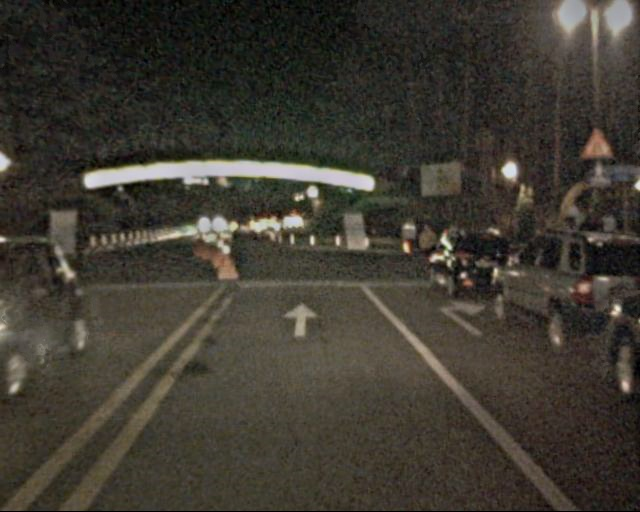person: (417, 223, 439, 276), (399, 214, 420, 264)
